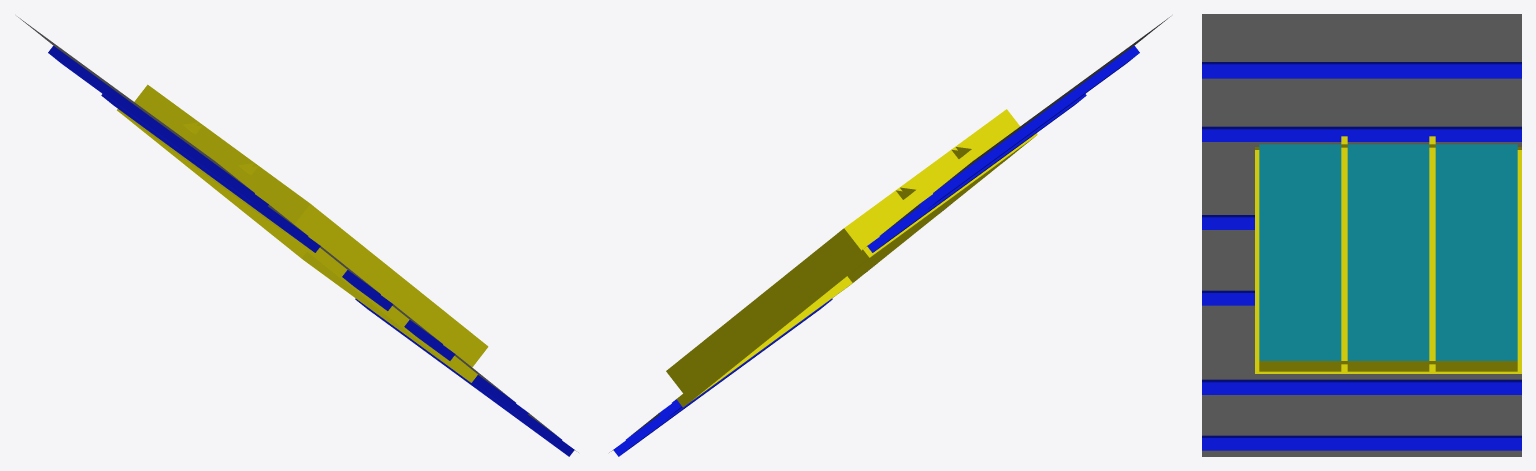
File: takfönster_3.fbx
3 renders of one model, left to right at view 1: azimuth 30°, elevation 25°; view 2: azimuth 150°, elevation 25°; view 3: azimuth 270°, elevation 25°, orthographic. The views are drawn at different scales.
Parts seen in each view (by area): view 1: polySurface12; view 2: polySurface12; view 3: polySurface12.
Part boxes in pixels (left/top/right/bottom): polySurface12: left=17, top=16, right=578, bottom=456; polySurface12: left=609, top=16, right=1170, bottom=456; polySurface12: left=1202, top=14, right=1521, bottom=456.
Bounding box in the file's own units: 2.09 × 2.09 × 2.
